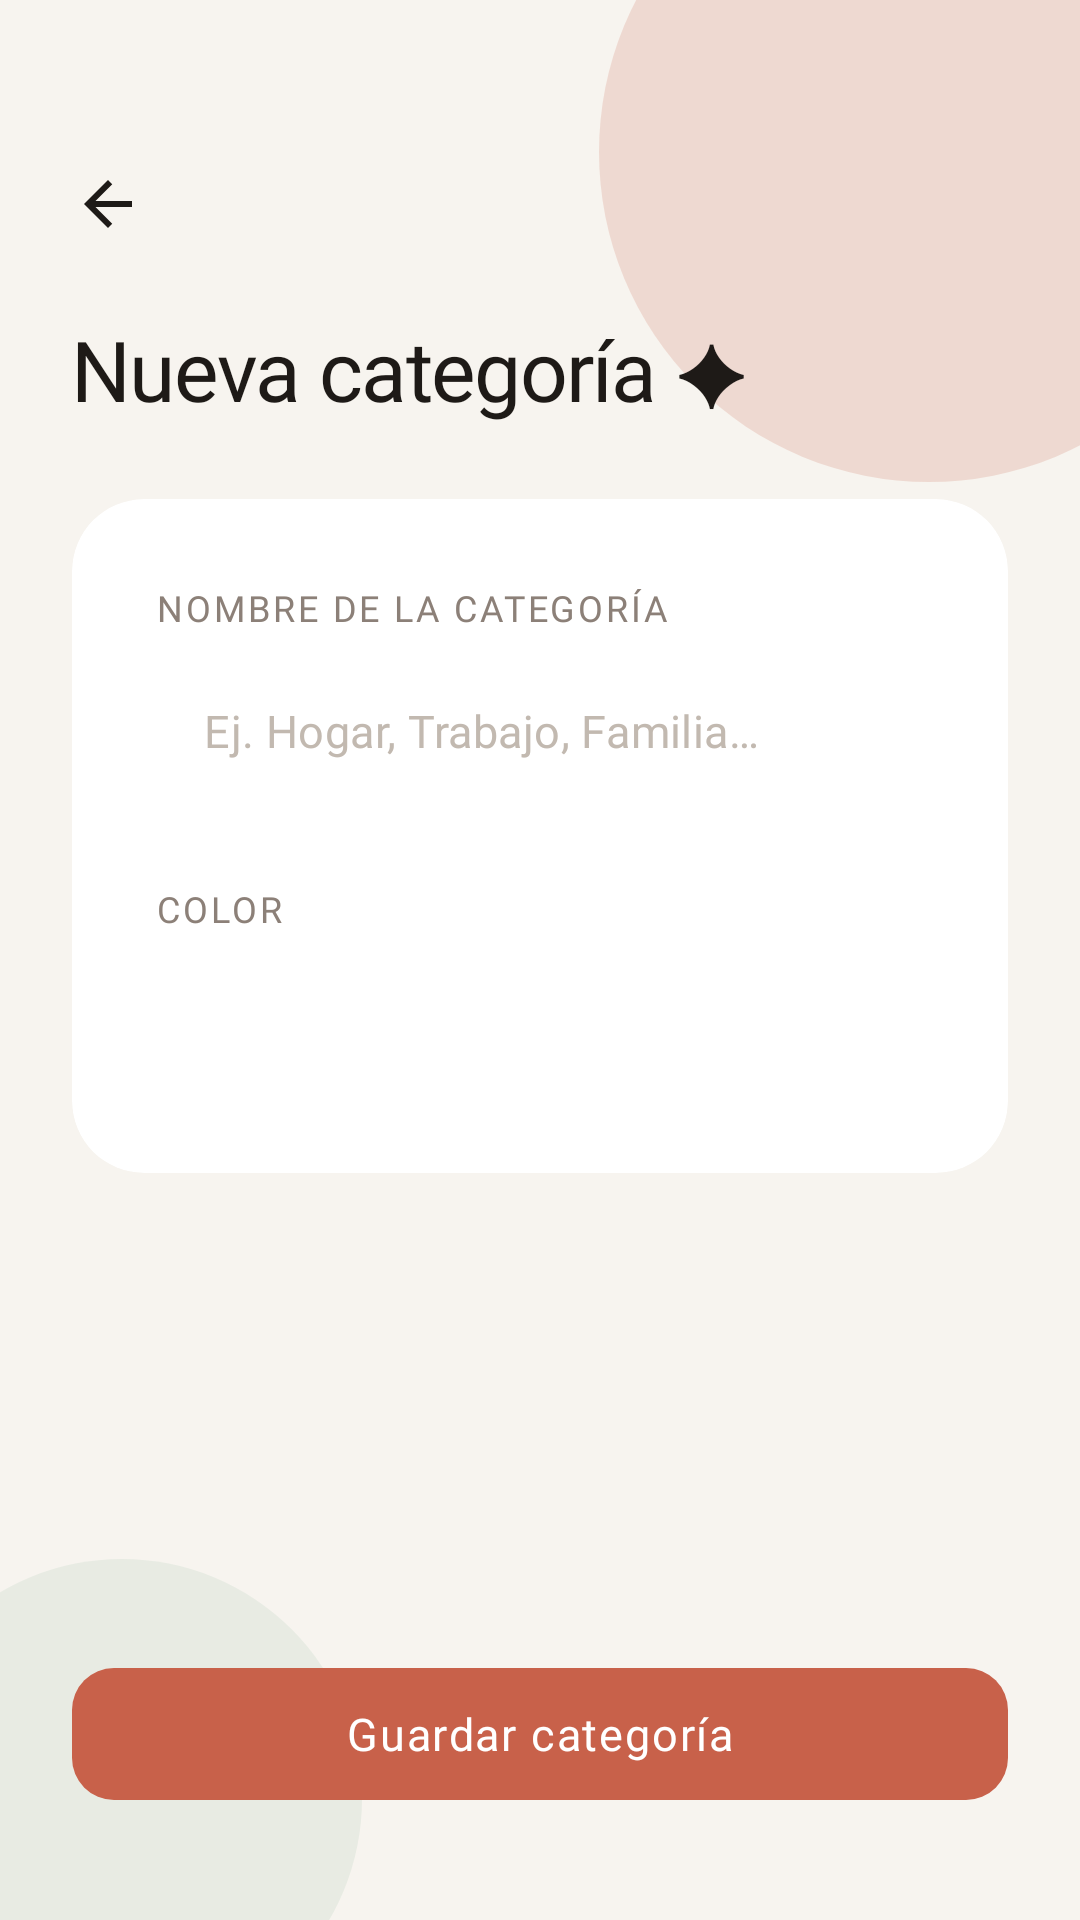

Screen size 1080px×1920px. Icon name, then its center in pixels as point (x, y):
Regresar: point (108, 204)
